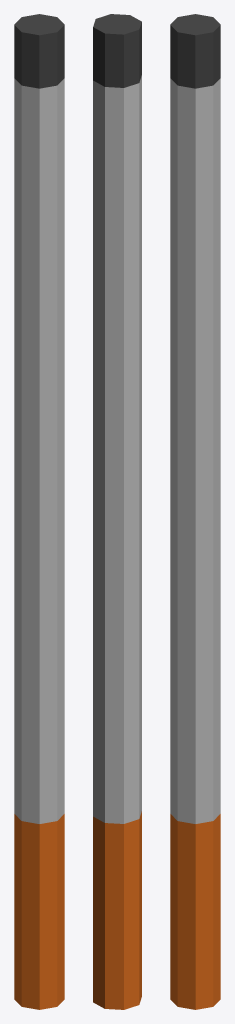
File: Cigarette.glb
The picture shows the model from 3 angles, left to right: view 1: azimuth 90°, elevation 25°; view 2: azimuth 150°, elevation 25°; view 3: azimuth 270°, elevation 25°; orthographic projection.
Visible parts, largest first — view 1: Cigarette-col; view 2: Cigarette-col; view 3: Cigarette-col.
Boxes of the visible parts, x1=… form: Cigarette-col: x1=14, y1=14, x2=64, y2=1009; Cigarette-col: x1=93, y1=14, x2=141, y2=1009; Cigarette-col: x1=170, y1=14, x2=220, y2=1009.
Bounding box in the file's own units: 0.0246 × 0.5239 × 0.0246.
